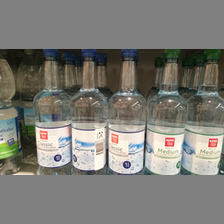water: (66, 50, 107, 175), (146, 50, 187, 175), (108, 50, 147, 174), (187, 50, 224, 175), (33, 49, 69, 175)
